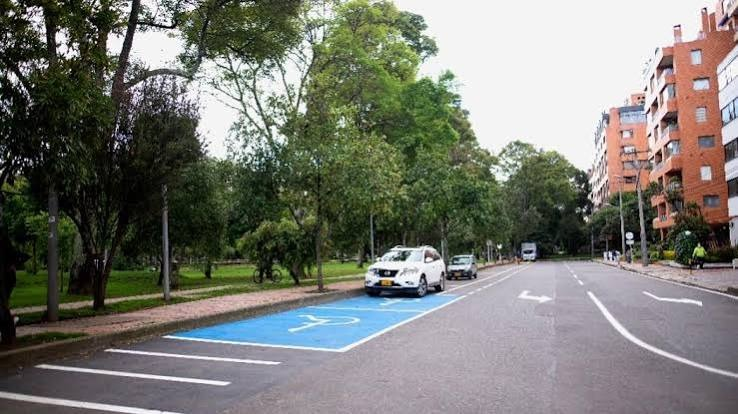car: (367, 246, 439, 297)
